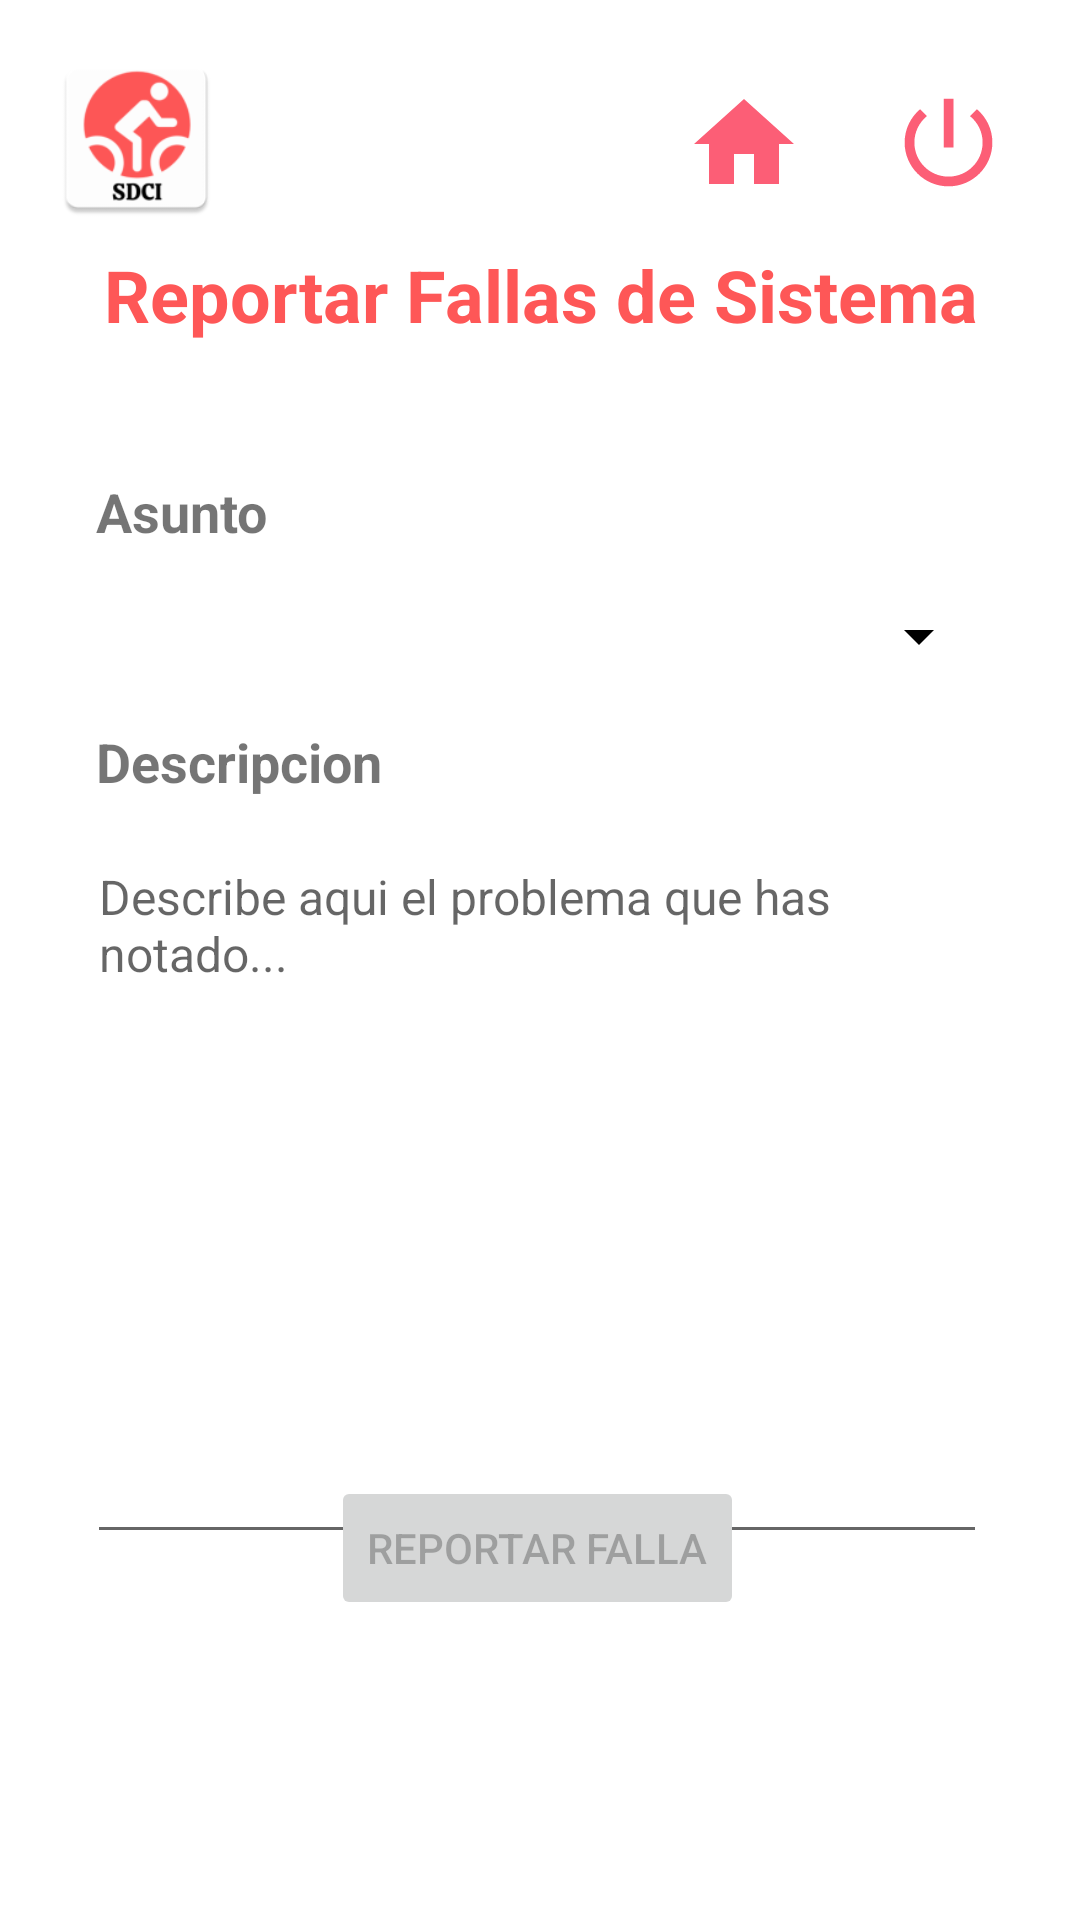

Named icons in this screenshot (1080px x 1920px) and their centers, (x=x, y=y):
homescreen: (x=744, y=141)
